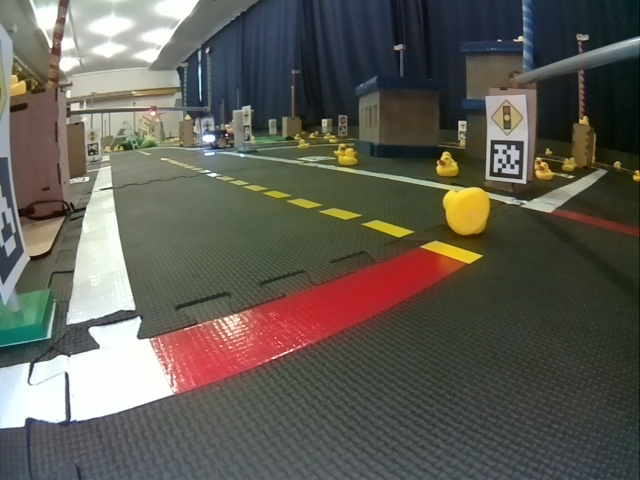Duckie: (445, 187, 486, 234), (437, 158, 457, 174), (339, 149, 357, 164), (537, 163, 552, 180)
QR code: (488, 139, 523, 177)
Signal sign: (489, 100, 525, 135)
